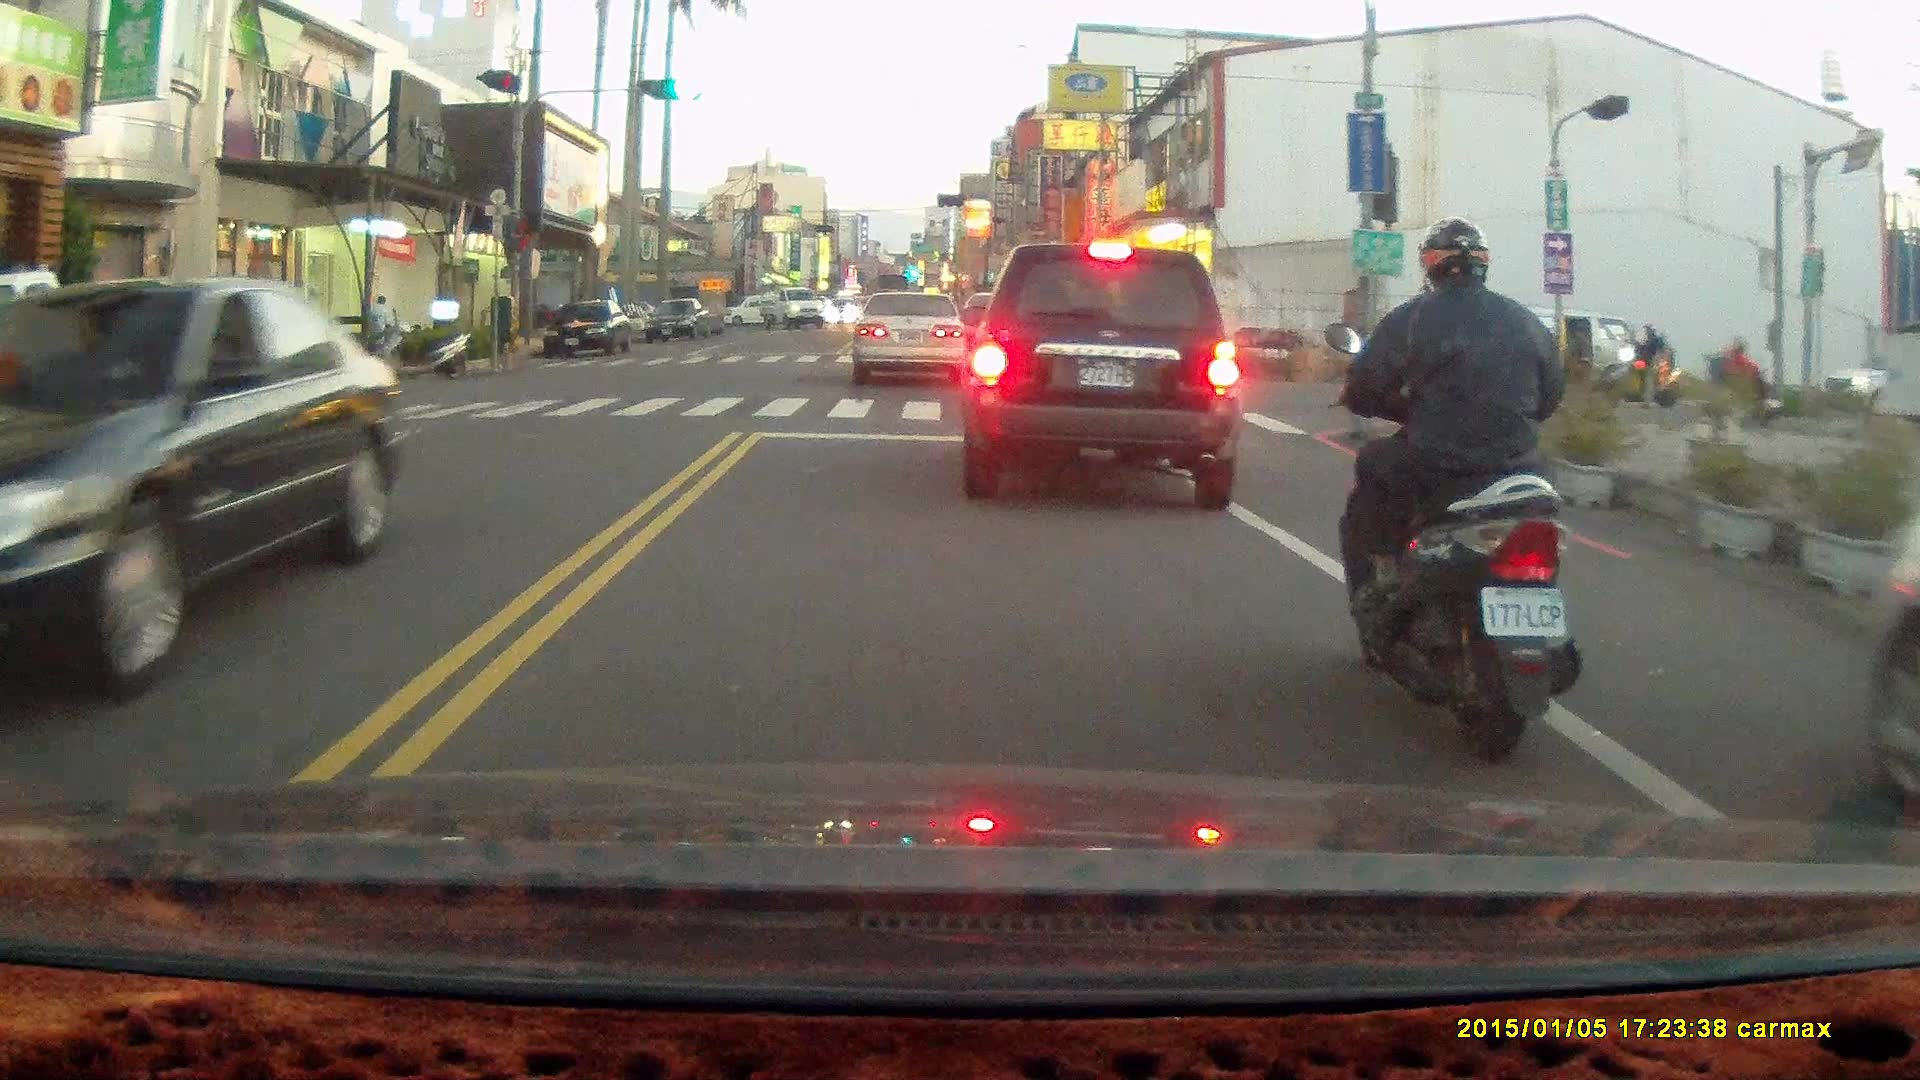pedestrian: (366, 292, 396, 361), (1568, 319, 1591, 387)
rider: (1323, 213, 1586, 761), (1699, 334, 1784, 431), (1608, 317, 1678, 406)
vehicle: (1, 275, 416, 725), (963, 237, 1243, 509), (1862, 515, 1920, 830), (856, 291, 969, 388), (544, 298, 638, 355), (643, 297, 711, 345)
